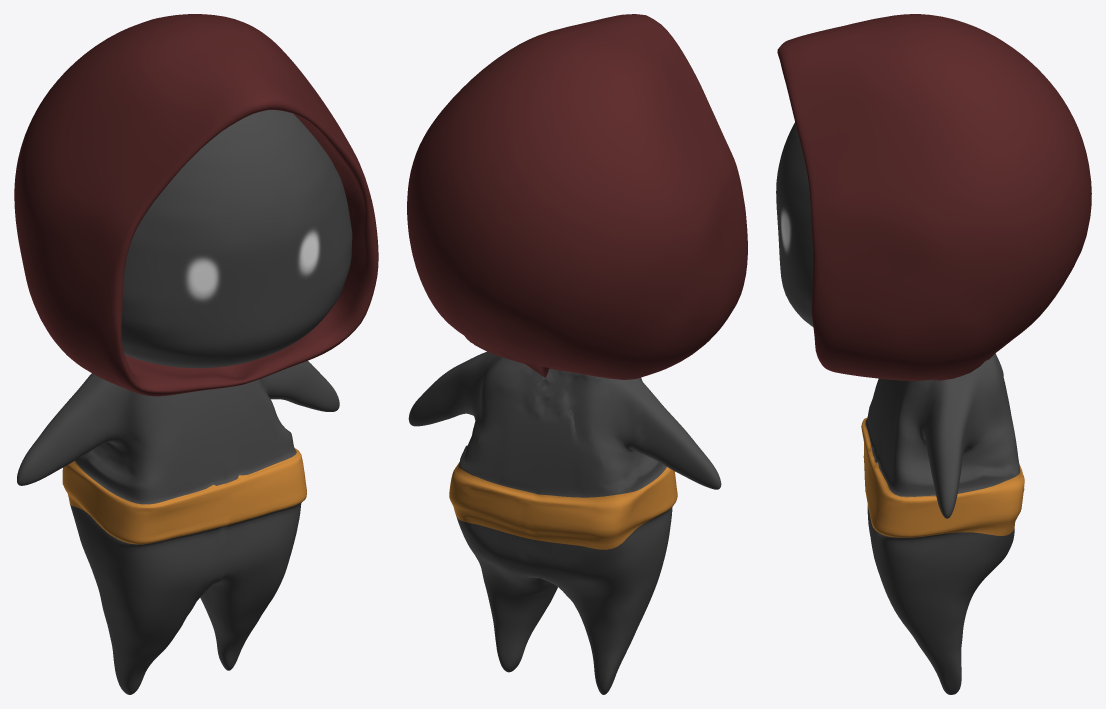
The model's file is Anim_Idle.FBX.
3 renders of one model, left to right at view 1: azimuth 30°, elevation 25°; view 2: azimuth 150°, elevation 25°; view 3: azimuth 270°, elevation 25°, orthographic. The views are drawn at different scales.
Visible parts, largest first — view 1: Mesh001; view 2: Mesh001; view 3: Mesh001.
Part boxes in pixels (x1,y1,x2,y2): Mesh001: (14,14,378,694); Mesh001: (407,14,747,694); Mesh001: (776,14,1091,694).
Size of the model in its own units: 124 by 243 by 108.
1 material, 1 textured.
